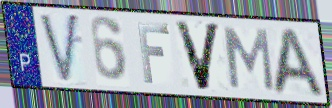6: (90, 13, 129, 90)
A: (270, 26, 328, 100)
F: (134, 21, 172, 86)
M: (222, 25, 277, 94)
V: (171, 19, 223, 93), (37, 12, 81, 87)
